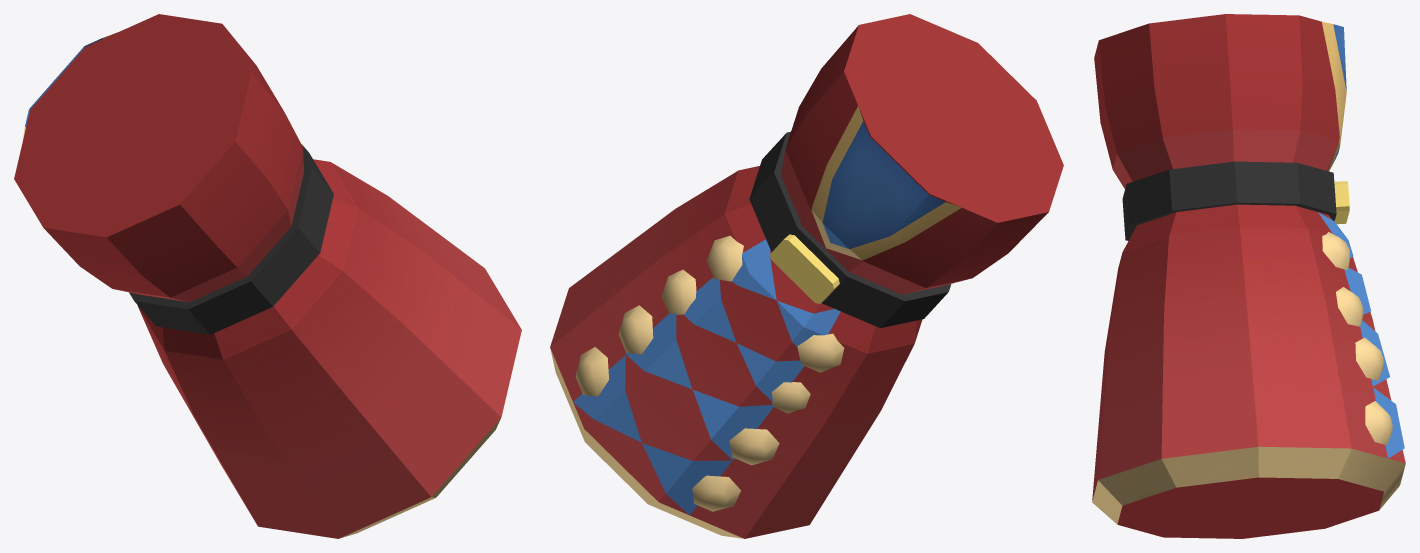
The model's file is Shenti.FBX.
3 renders of one model, left to right at view 1: azimuth 30°, elevation 25°; view 2: azimuth 150°, elevation 25°; view 3: azimuth 270°, elevation 25°, orthographic. The views are drawn at different scales.
Visible parts, largest first — view 1: Object023; view 2: Object023; view 3: Object023.
Part boxes in pixels (x1=…): Object023: x1=14, y1=14, x2=521, y2=538; Object023: x1=550, y1=14, x2=1063, y2=538; Object023: x1=1092, y1=14, x2=1405, y2=538.
Bounding box in the file's own units: 5.47 × 5.86 × 3.4.
Materials: 1 (1 with a texture image).
